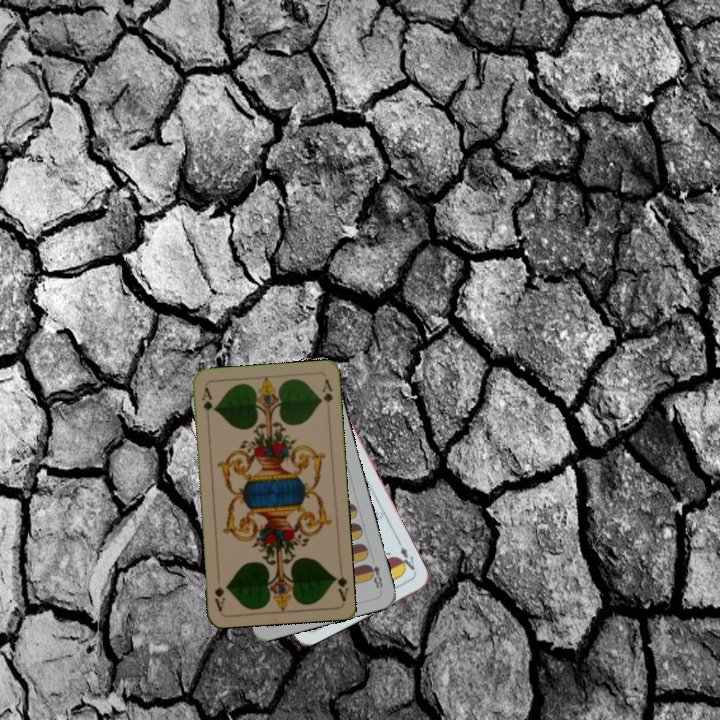E8: (363, 560, 385, 591)
EA: (394, 543, 418, 576)
GA: (198, 383, 216, 423), (329, 571, 350, 603)
